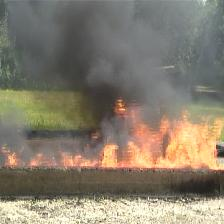fire: (59, 99, 224, 170), (0, 144, 42, 166)
